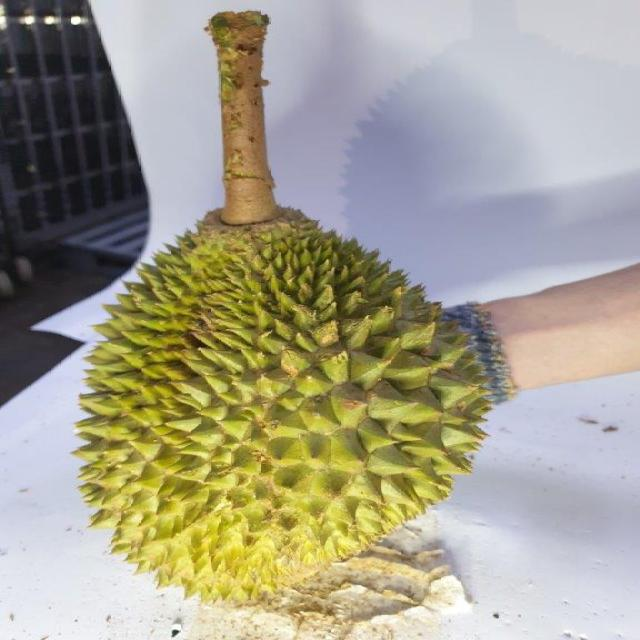immature: (69, 212, 495, 608)
